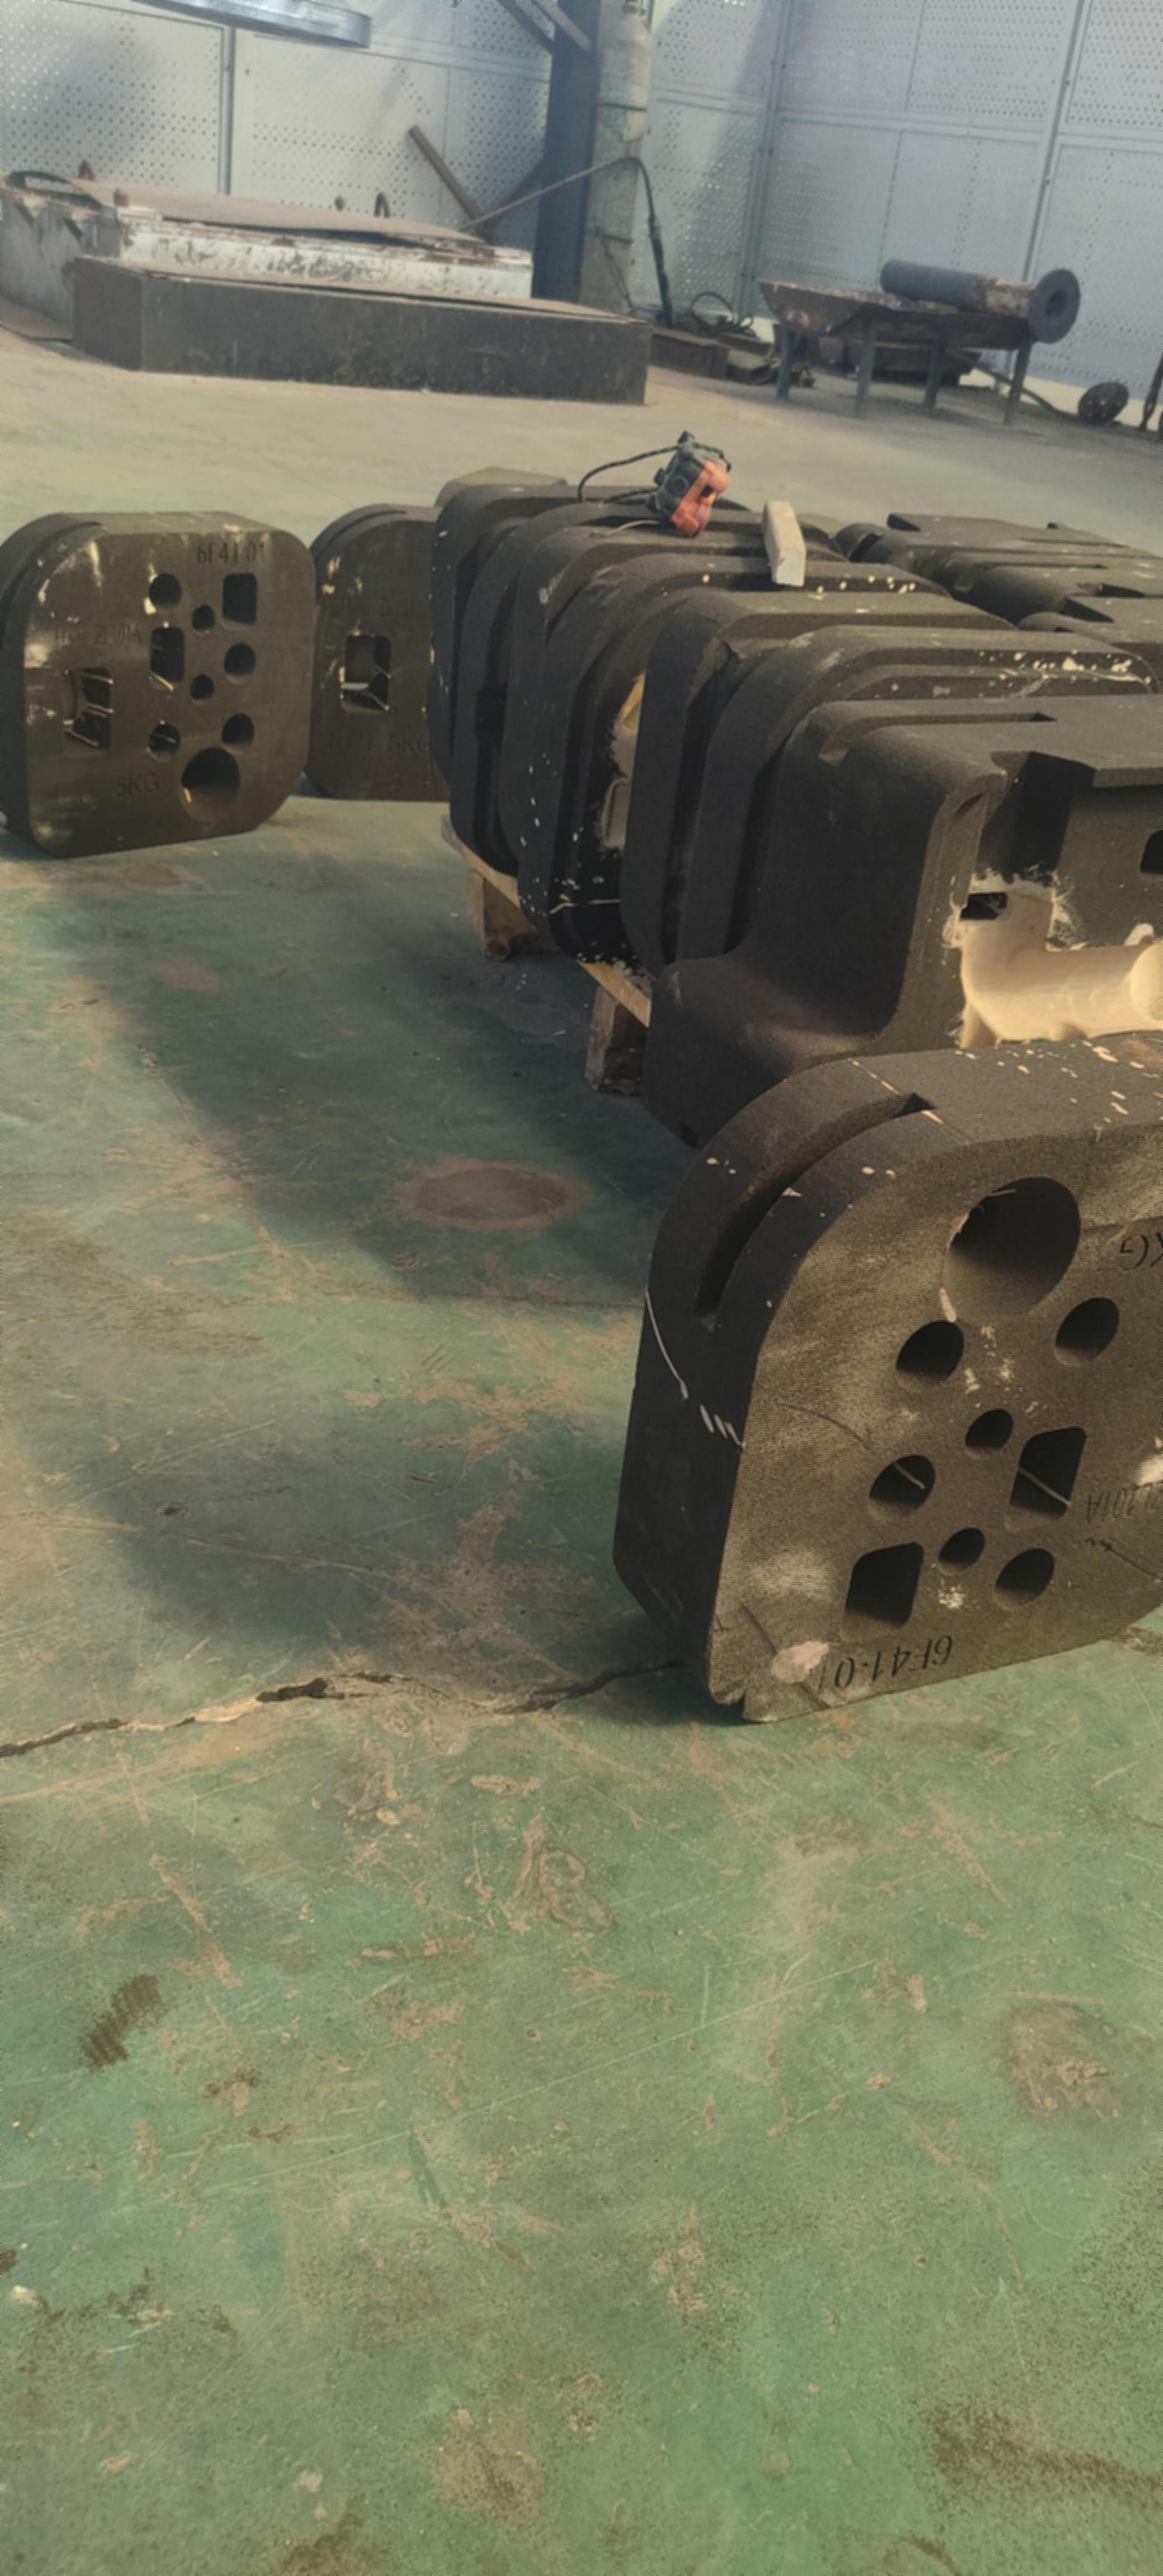pouring hole: (941, 1178, 1083, 1326), (181, 746, 241, 823)
